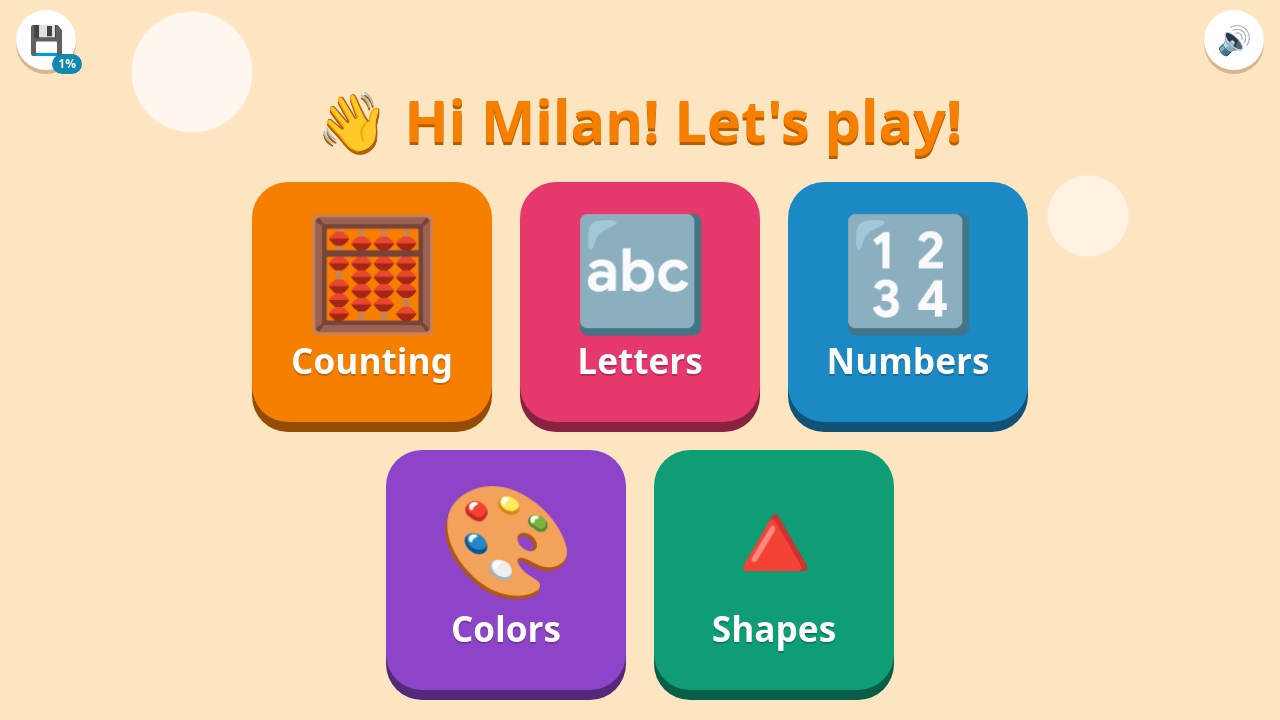
Test: Play offline › explains that it is waiting for the internet
What coordinates should you click on to do the following:
click the button named "Play offline"
I would click on:
 (46, 40)
Its box is [16,10,76,70].
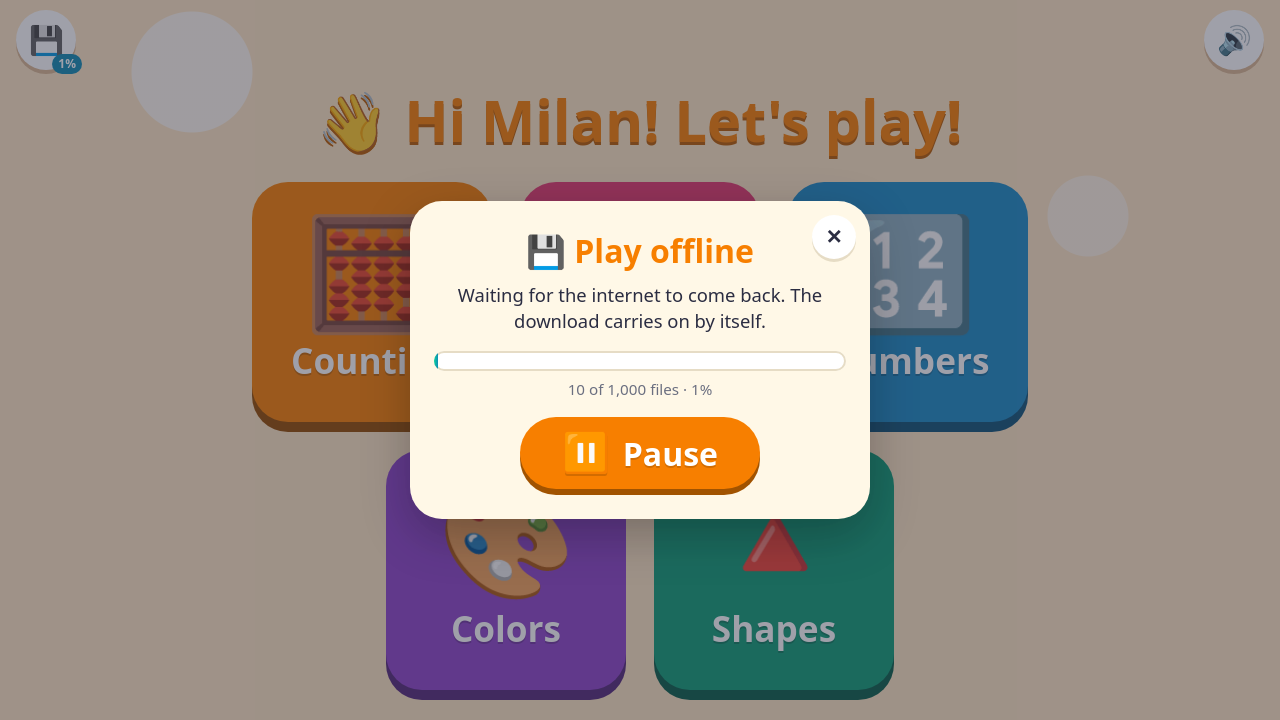
expect the dialog "Play offline" shows "Waiting for the internet to come back.": met, box [458,282,822,332]
